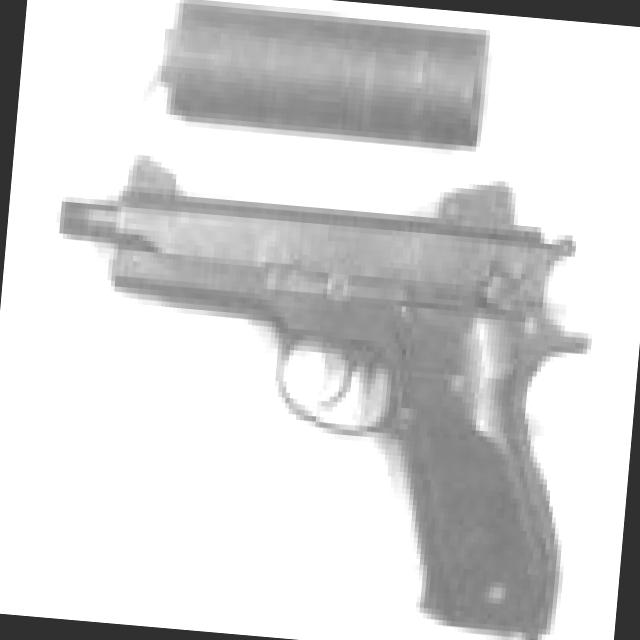handgun: (13, 125, 610, 639)
